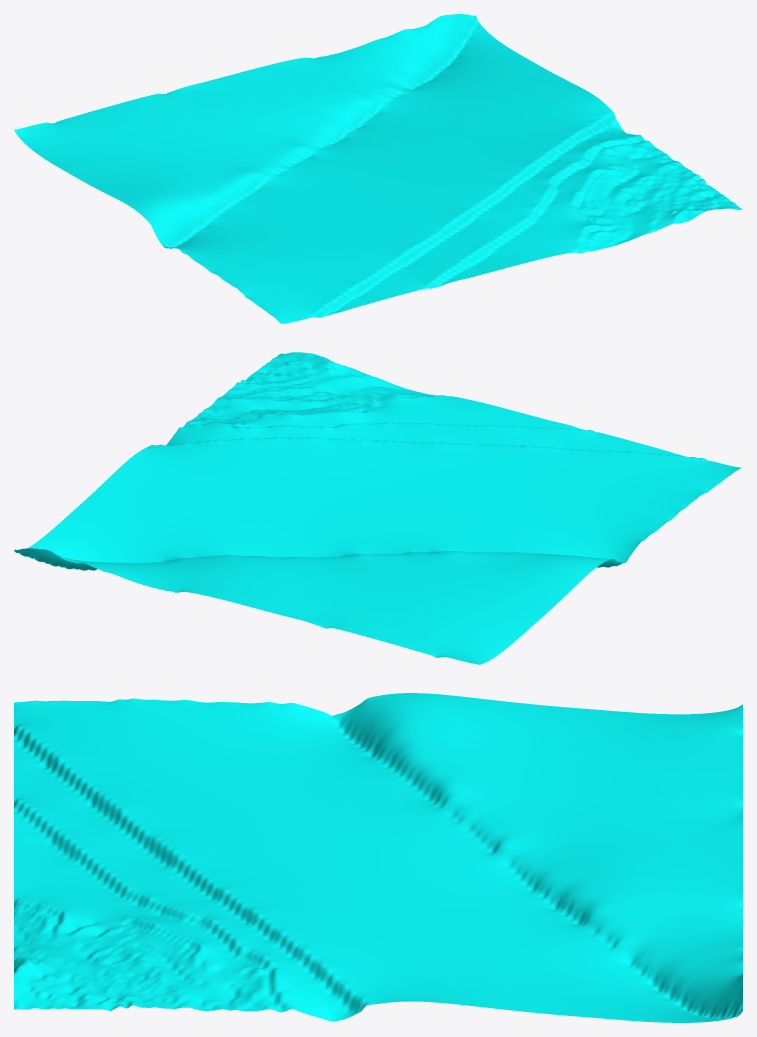
The model's file is 27_49_comparison_overlay.glb.
3 views of the same model, one above another, from view 1: azimuth 30°, elevation 25°; view 2: azimuth 150°, elevation 25°; view 3: azimuth 270°, elevation 25° (orthographic). The views are drawn at different scales.
Parts seen in each view (by area): view 1: TerrainTile; view 2: TerrainTile; view 3: TerrainTile.
Boxes of the visible parts, <box> form: TerrainTile: <box>14,14,742,323</box>; TerrainTile: <box>14,352,742,664</box>; TerrainTile: <box>14,693,742,1022</box>.
Bounding box in the file's own units: 533 × 40 × 533.
Materials: 1 (1 with a texture image).
